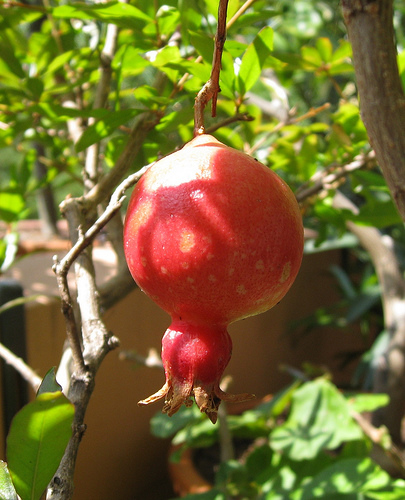pomogranate: (122, 2, 306, 426)
